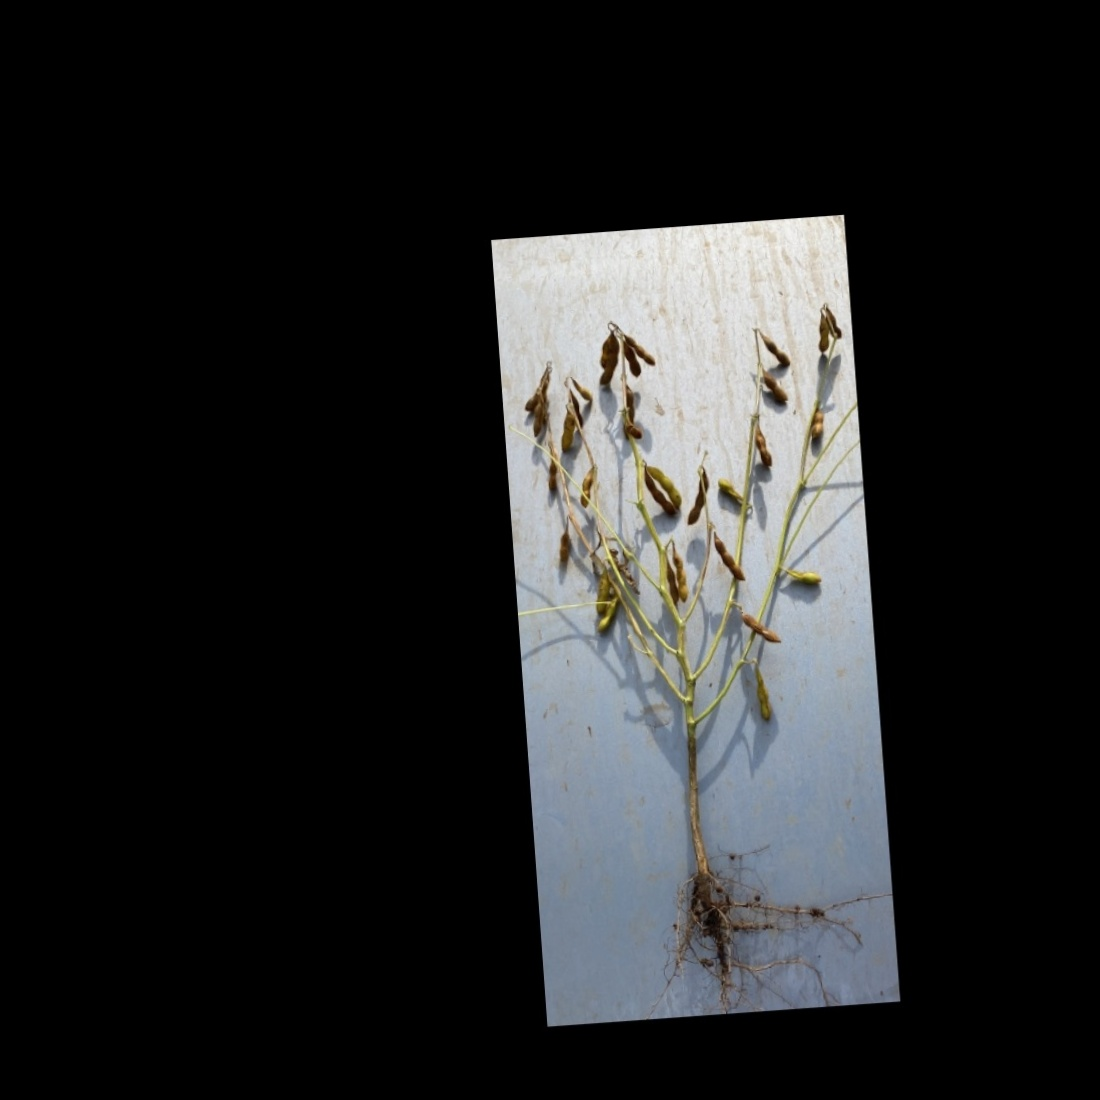pod: (676, 460, 720, 535), (640, 460, 689, 518), (634, 461, 678, 524), (748, 659, 779, 724), (618, 325, 658, 374), (711, 535, 748, 584), (758, 326, 794, 372), (552, 403, 580, 460), (745, 420, 775, 473), (740, 611, 787, 645), (617, 334, 648, 385), (759, 371, 792, 407), (552, 520, 575, 569), (671, 555, 692, 604), (576, 469, 598, 510), (545, 459, 563, 501), (811, 410, 834, 440)
soy: (507, 259, 885, 974)
